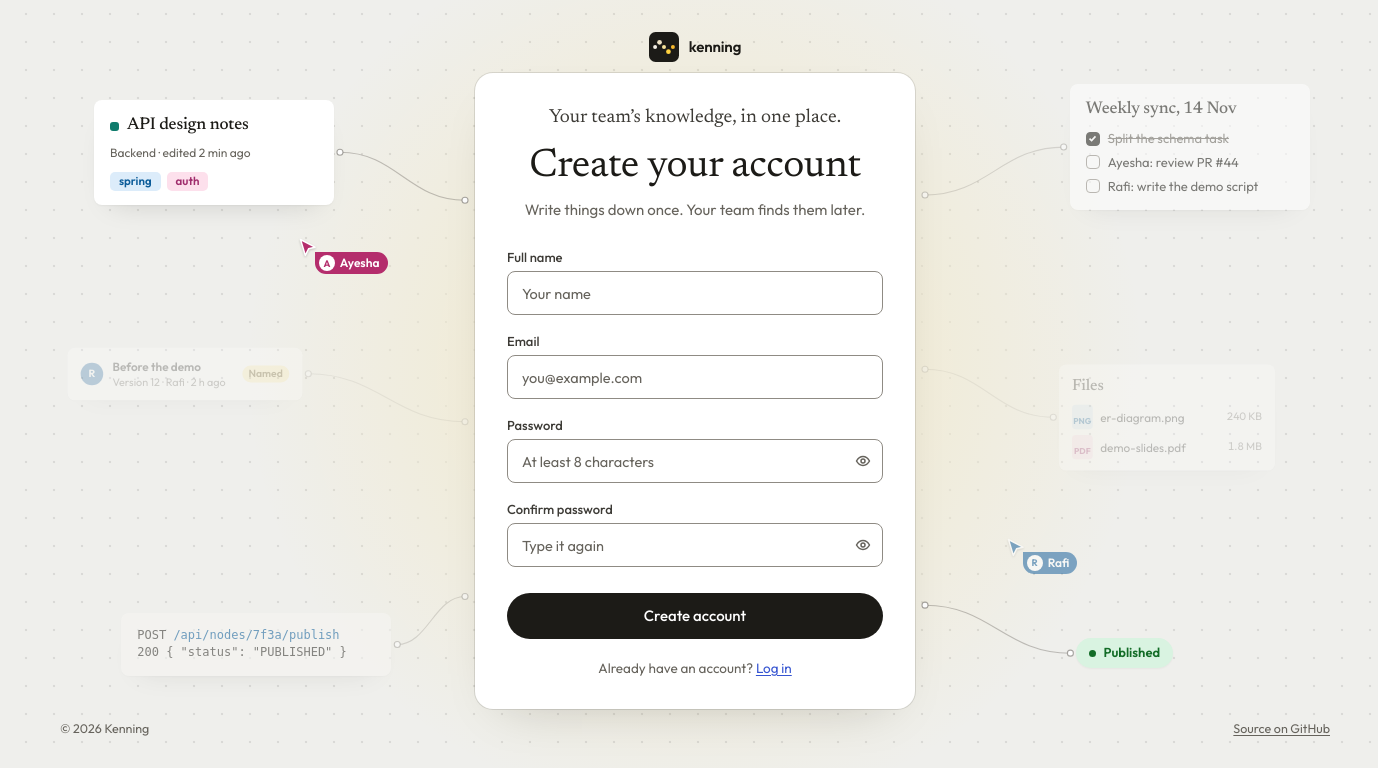
it: Register › registerSignsYouInAndGoesOnToTheSafeNextWithAWelcome
The width and height of the screenshot is (1378, 768).
In the field labelled "Full name": (695, 293) left=507, top=271, right=883, bottom=315, type "Tanvir Ahmed"
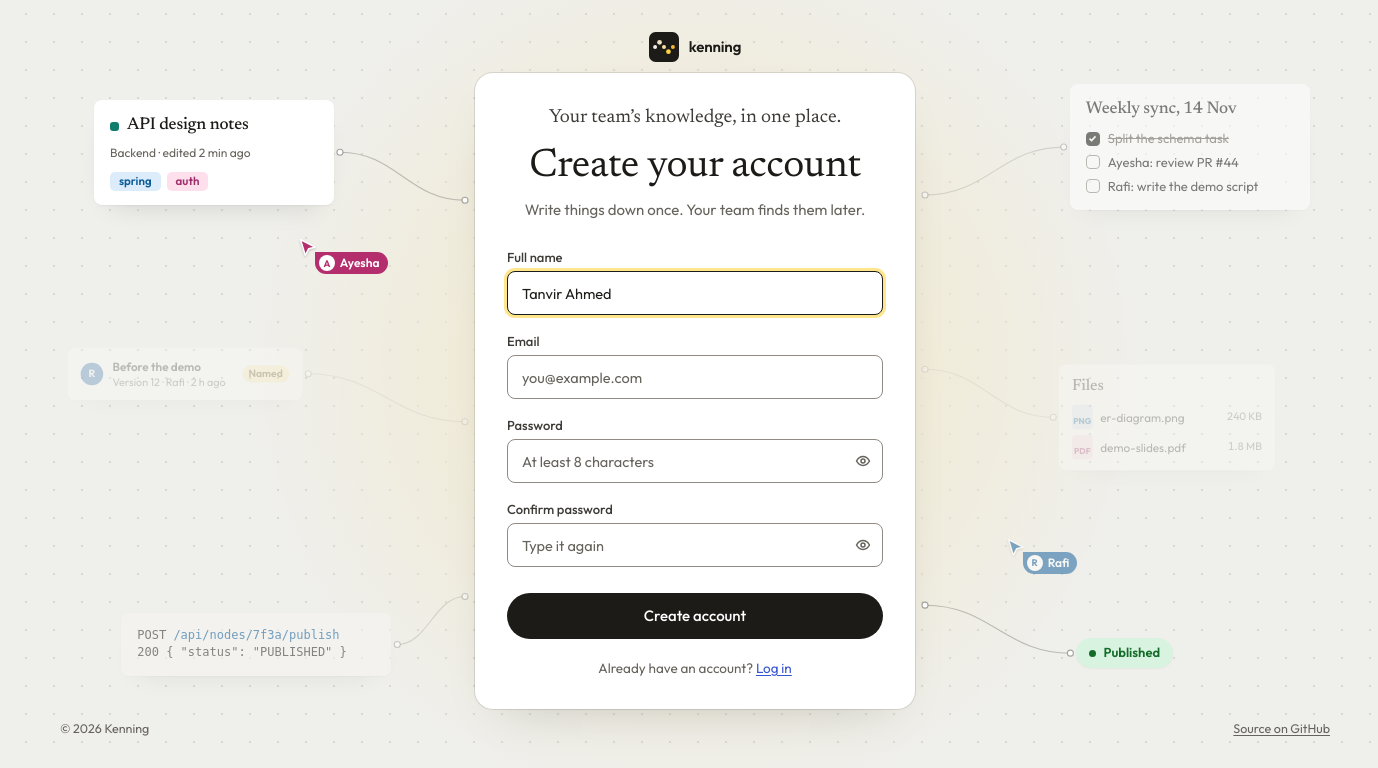
In the field labelled "Email": (695, 377) left=507, top=355, right=883, bottom=399, type "t@b.co"
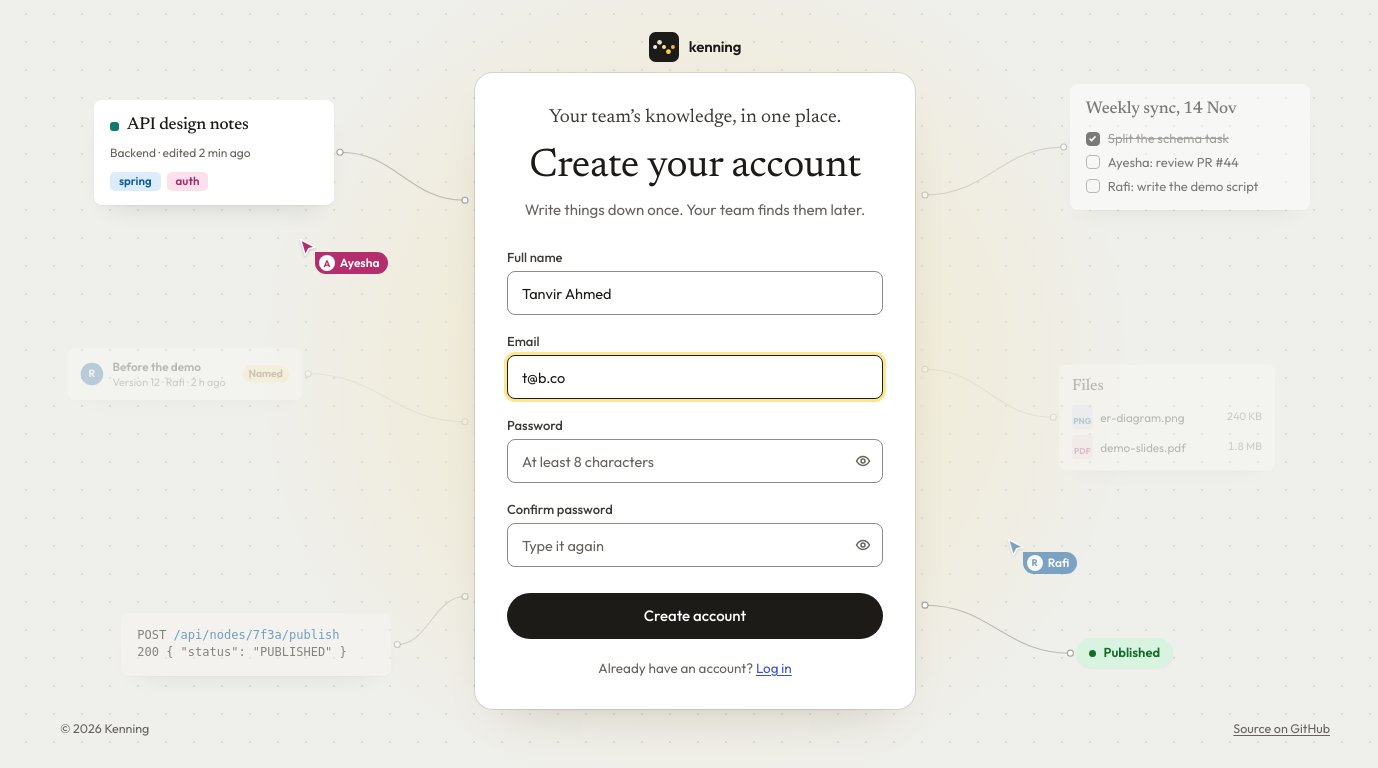
In the password field labelled "Password": (695, 461) left=507, top=439, right=883, bottom=483, type "secret123"
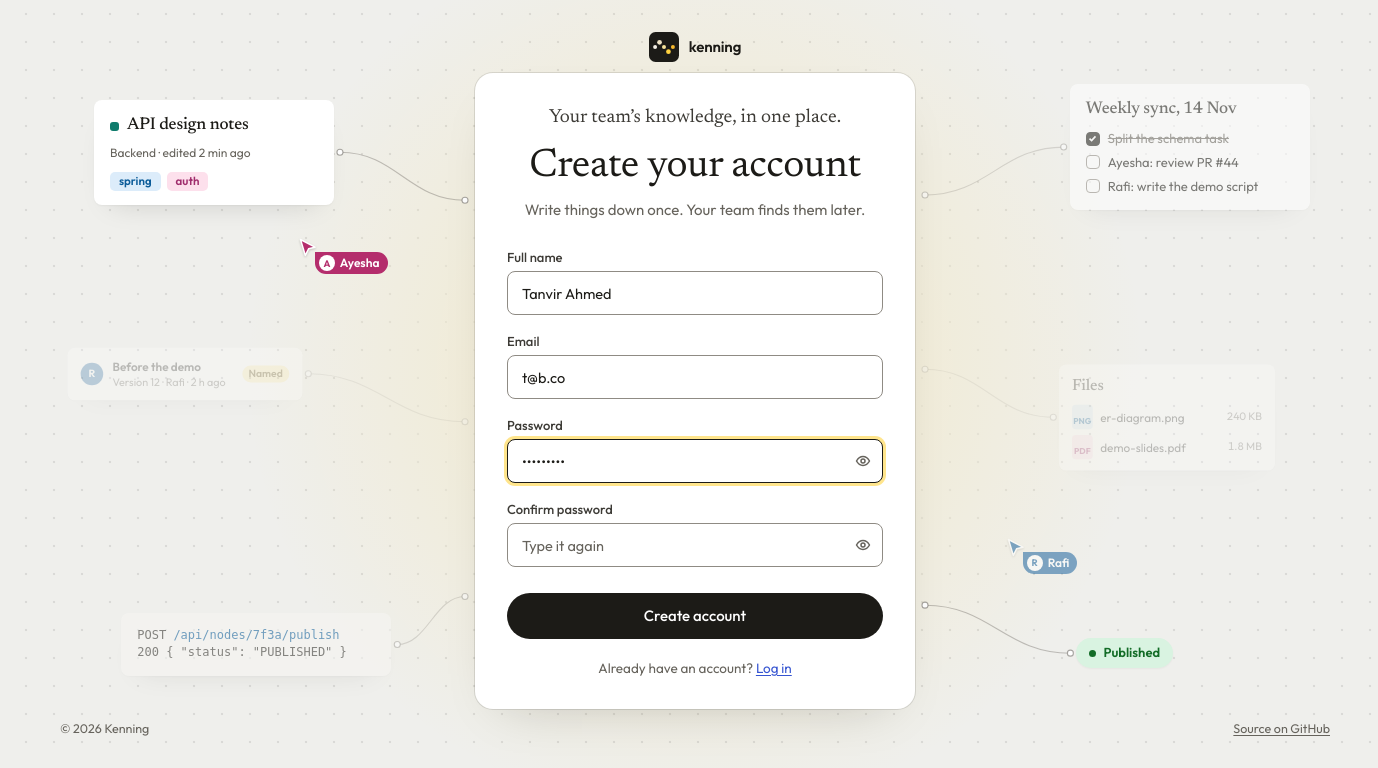
In the password field labelled "Confirm password": (695, 545) left=507, top=523, right=883, bottom=567, type "secret123"
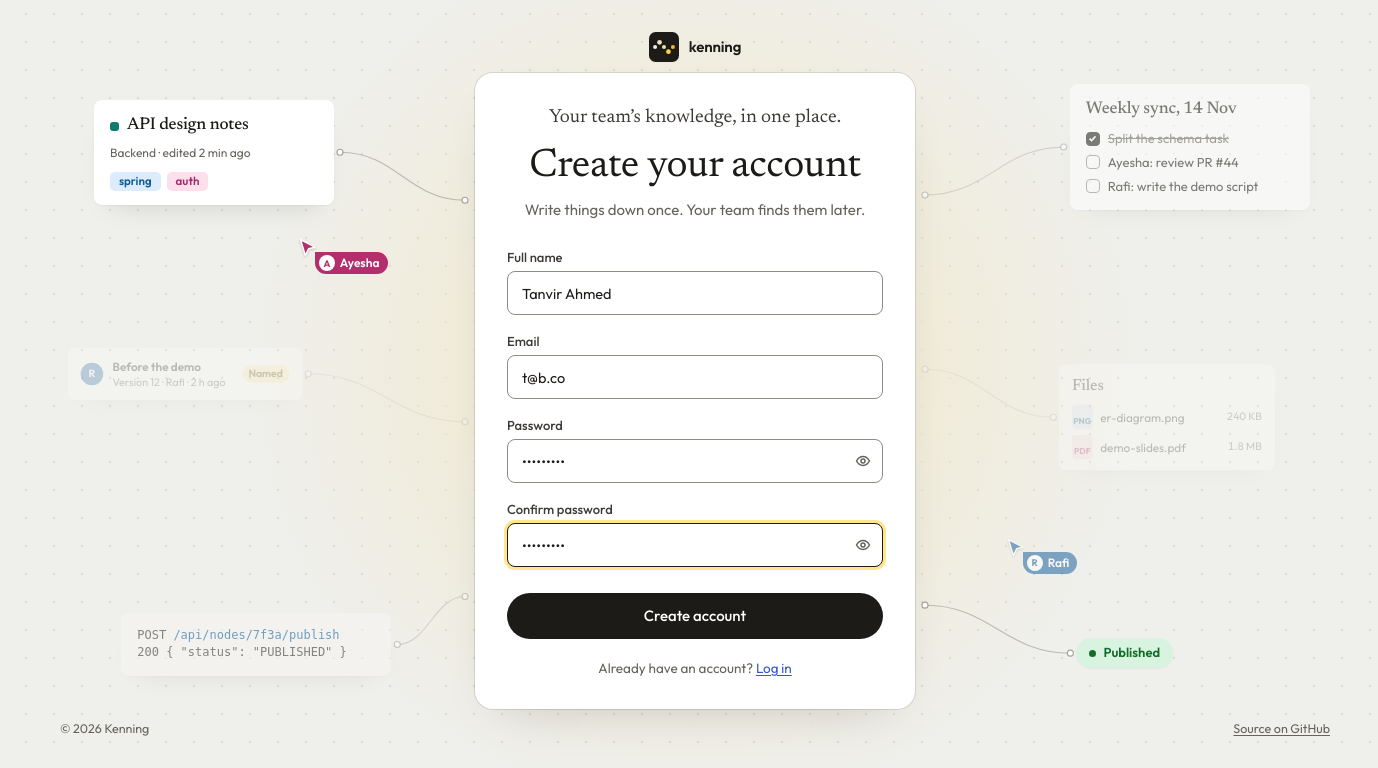
Click the button "Create account": (695, 616) left=507, top=593, right=883, bottom=639
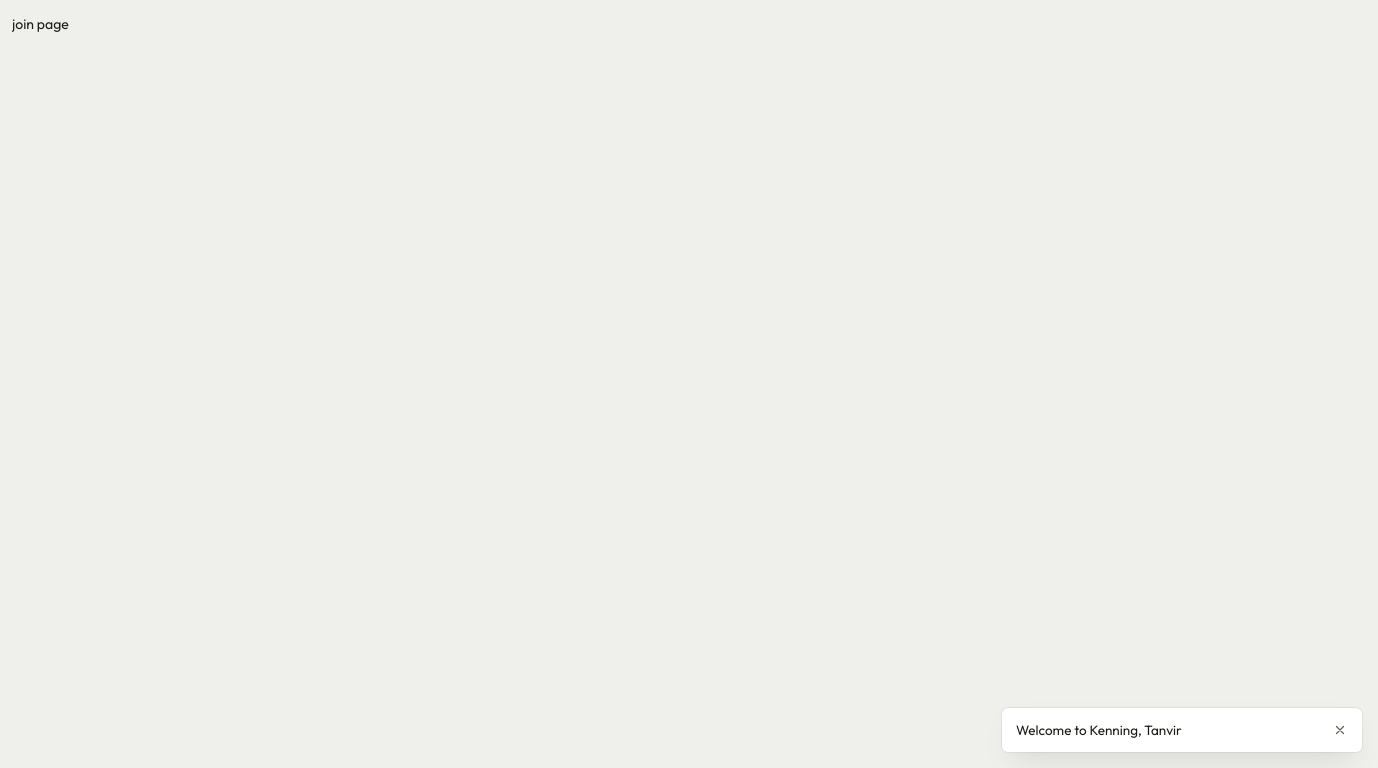
Expected: the text "join page" is shown, left=12, top=15, right=69, bottom=33
Expected: the text "Welcome to Kenning, Tanvir" is shown, left=1016, top=720, right=1182, bottom=738
